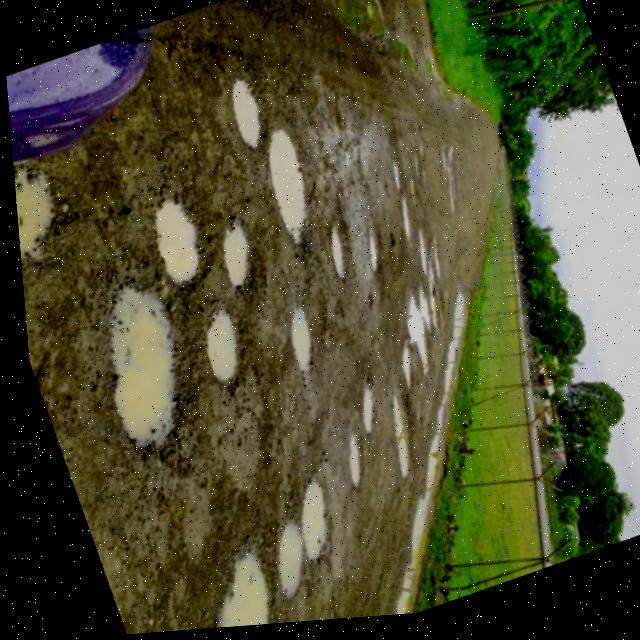Pothole: (59, 266, 211, 467), (241, 119, 335, 273), (6, 87, 81, 278), (160, 538, 283, 633), (160, 0, 353, 60), (261, 464, 350, 591), (239, 505, 330, 628), (304, 0, 436, 81), (410, 108, 484, 228), (207, 68, 284, 179), (379, 286, 456, 382), (274, 288, 336, 389), (366, 306, 427, 404), (155, 205, 220, 295), (323, 424, 385, 517), (363, 397, 422, 481), (374, 178, 424, 257), (206, 213, 256, 289), (330, 373, 379, 437), (315, 207, 360, 276), (194, 313, 242, 371), (348, 228, 386, 301)
